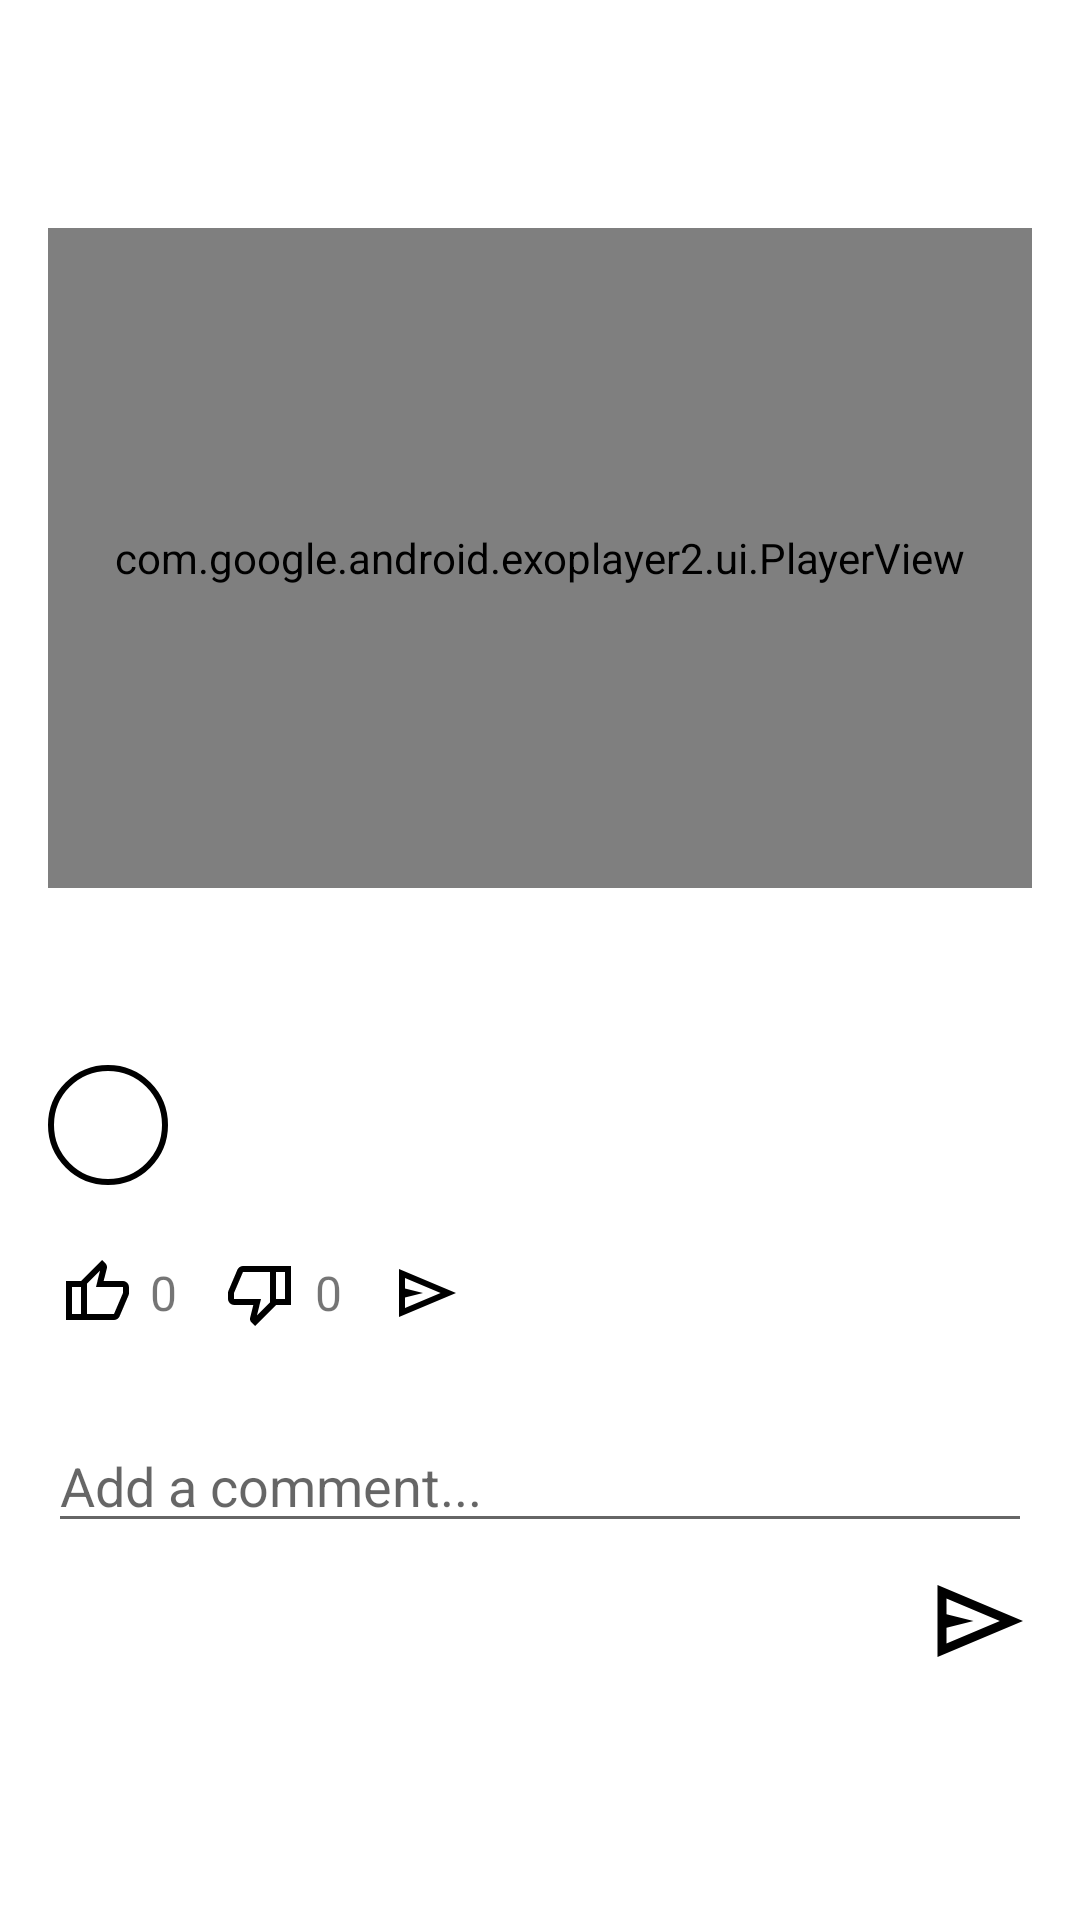

Point at icon controls on the screen. Image size 1080 × 1920, points as point (x, y).
Dislike: point (259, 1296)
Like: point (97, 1290)
Send: point (980, 1621)
Share: point (427, 1293)
